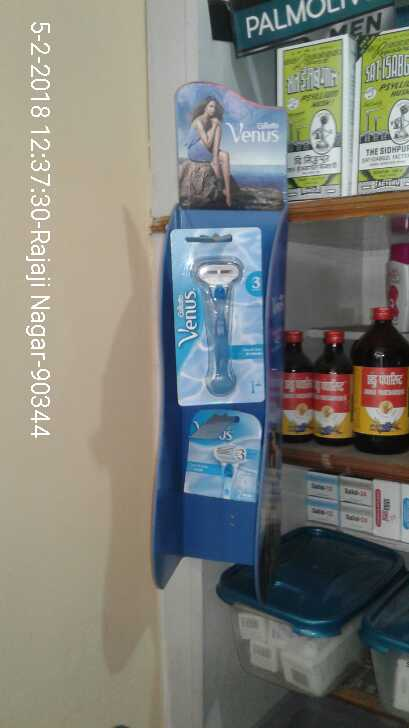venus: (170, 228, 268, 406), (182, 412, 264, 501)
